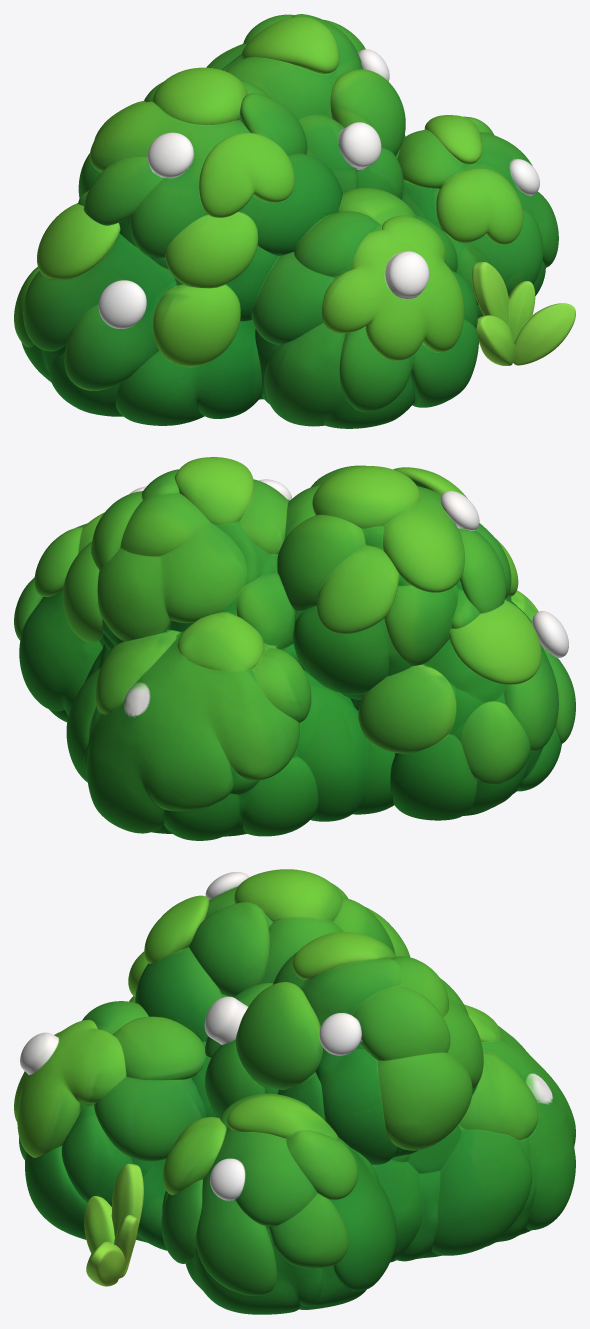
File: bush.glb
3 views of the same model, one above another, from view 1: azimuth 30°, elevation 25°; view 2: azimuth 150°, elevation 25°; view 3: azimuth 270°, elevation 25° (orthographic). The views are drawn at different scales.
Size of the model in its own units: 1.9 by 1.02 by 1.78.
1 material, 1 textured.
